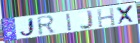H: (97, 7, 117, 29)
I: (66, 13, 74, 32)
J: (18, 17, 36, 38), (79, 10, 95, 31)
R: (36, 14, 57, 37)
X: (115, 4, 136, 25)
